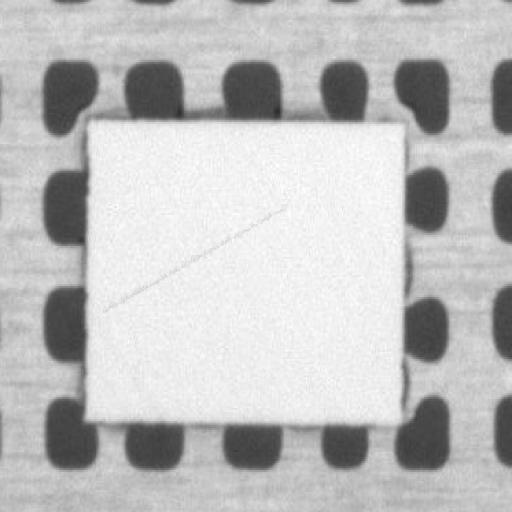DIE_CRACK: (138, 155, 376, 232)
